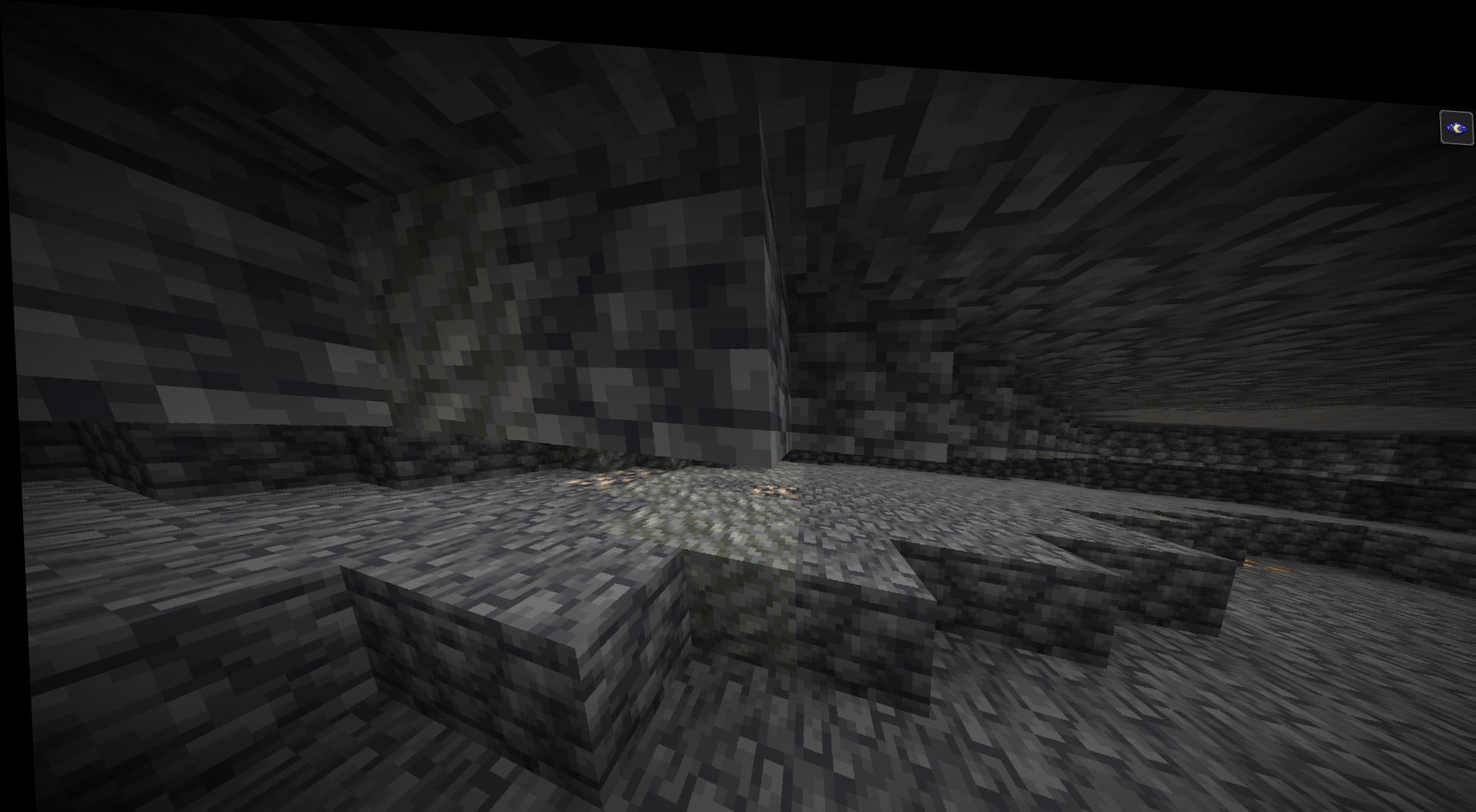iron ore: (568, 455, 656, 480), (751, 470, 796, 484)
